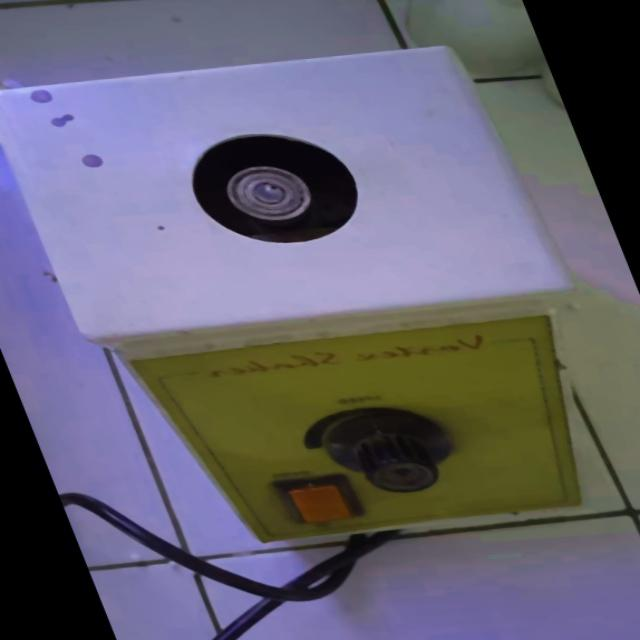Vortex: (0, 38, 640, 556)
